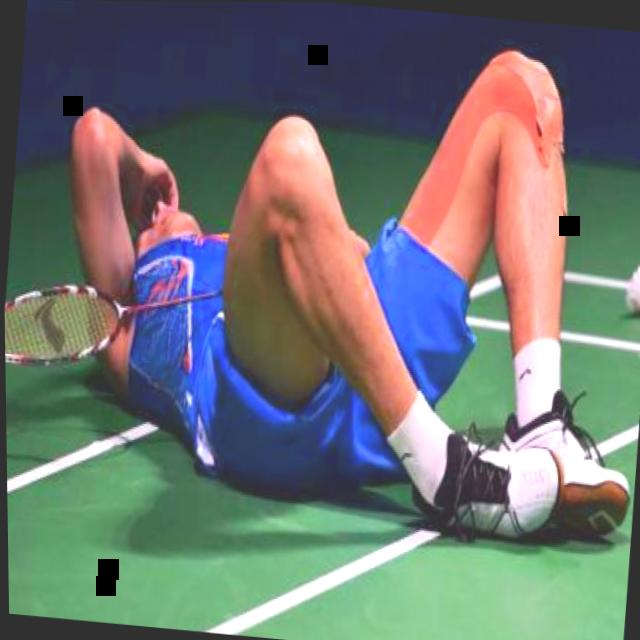Fall-Detected: (1, 0, 640, 566)
